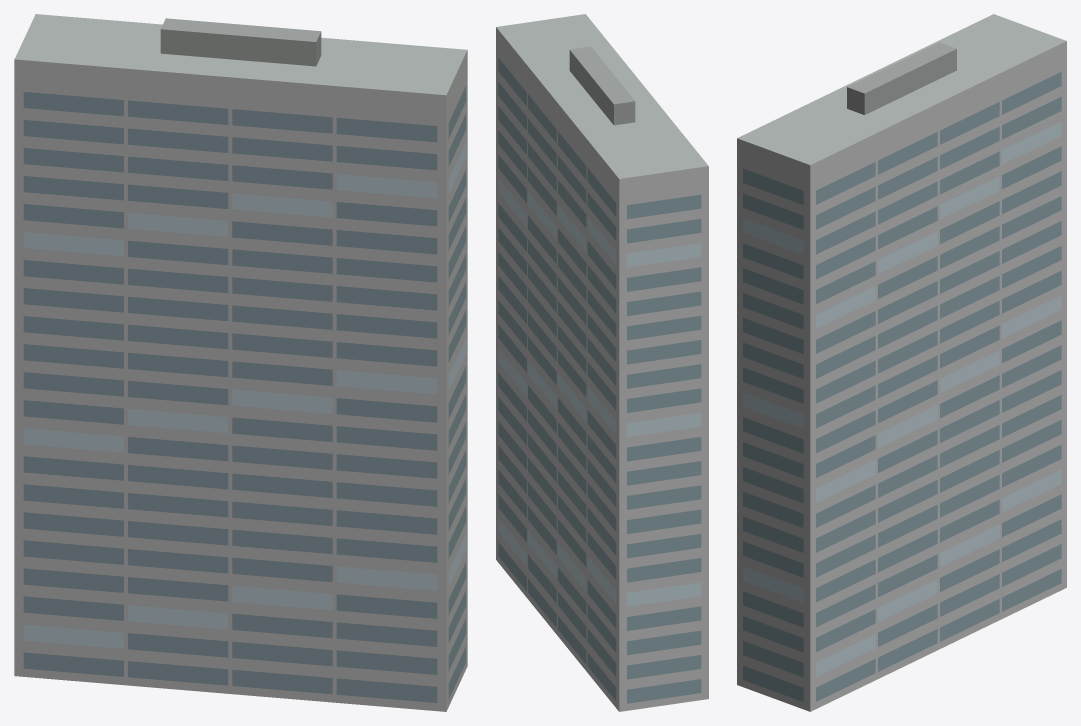
File: fallback-gwanak-dream-town-123.glb
3 renders of one model, left to right at view 1: azimuth 30°, elevation 25°; view 2: azimuth 150°, elevation 25°; view 3: azimuth 270°, elevation 25°, orthographic. The views are drawn at different scales.
Visible parts, largest first — view 1: fallback-gwanak-dream-town-123; view 2: fallback-gwanak-dream-town-123; view 3: fallback-gwanak-dream-town-123.
Boxes of the visible parts, bbox=[...] form: fallback-gwanak-dream-town-123: bbox=[14, 14, 467, 711]; fallback-gwanak-dream-town-123: bbox=[496, 14, 708, 711]; fallback-gwanak-dream-town-123: bbox=[737, 14, 1066, 711].
Size of the model in its own units: 35.95 by 63 by 33.13.
